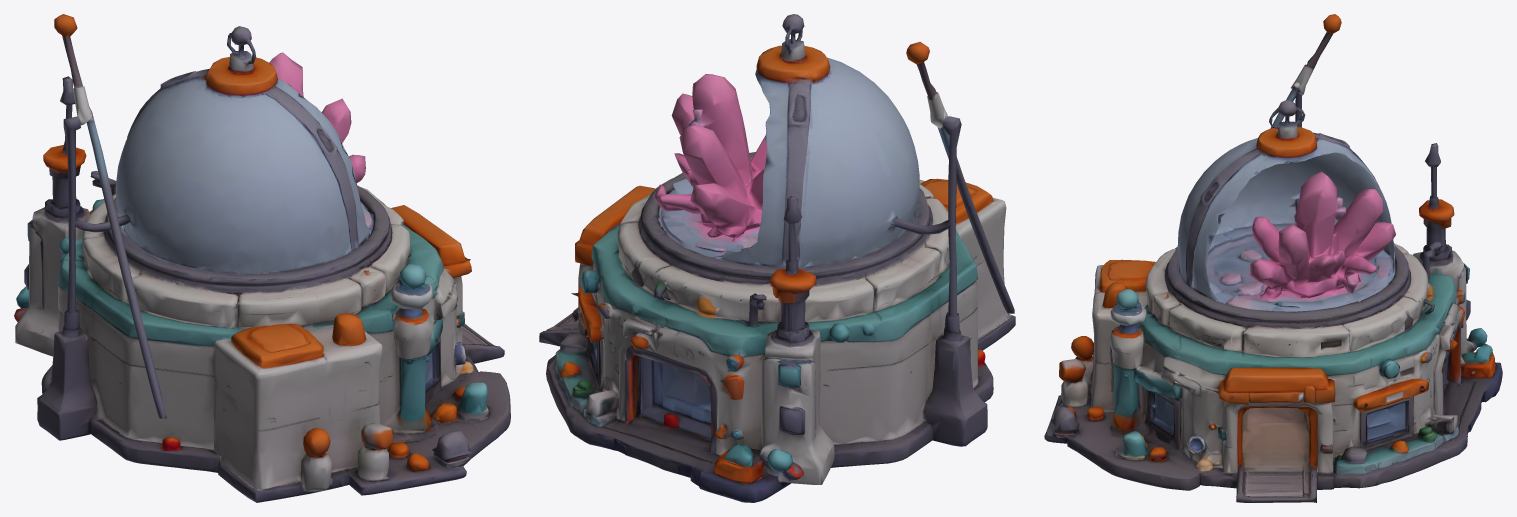
Rendered from labo.glb.
3 views of the same model, side by side, from view 1: azimuth 30°, elevation 25°; view 2: azimuth 150°, elevation 25°; view 3: azimuth 270°, elevation 25° (orthographic). The views are drawn at different scales.
Visible parts, largest first — view 1: tripo_node_418fb125-9374-4fc2-aa8b-356948616f66; view 2: tripo_node_418fb125-9374-4fc2-aa8b-356948616f66; view 3: tripo_node_418fb125-9374-4fc2-aa8b-356948616f66.
Boxes of the visible parts, box(x1,y1,x2,y2) form: tripo_node_418fb125-9374-4fc2-aa8b-356948616f66: box(14, 14, 510, 502); tripo_node_418fb125-9374-4fc2-aa8b-356948616f66: box(539, 14, 1015, 502); tripo_node_418fb125-9374-4fc2-aa8b-356948616f66: box(1044, 14, 1502, 502).
Size of the model in its own units: 0.8908 by 0.8007 by 1.
1 material, 1 textured.
